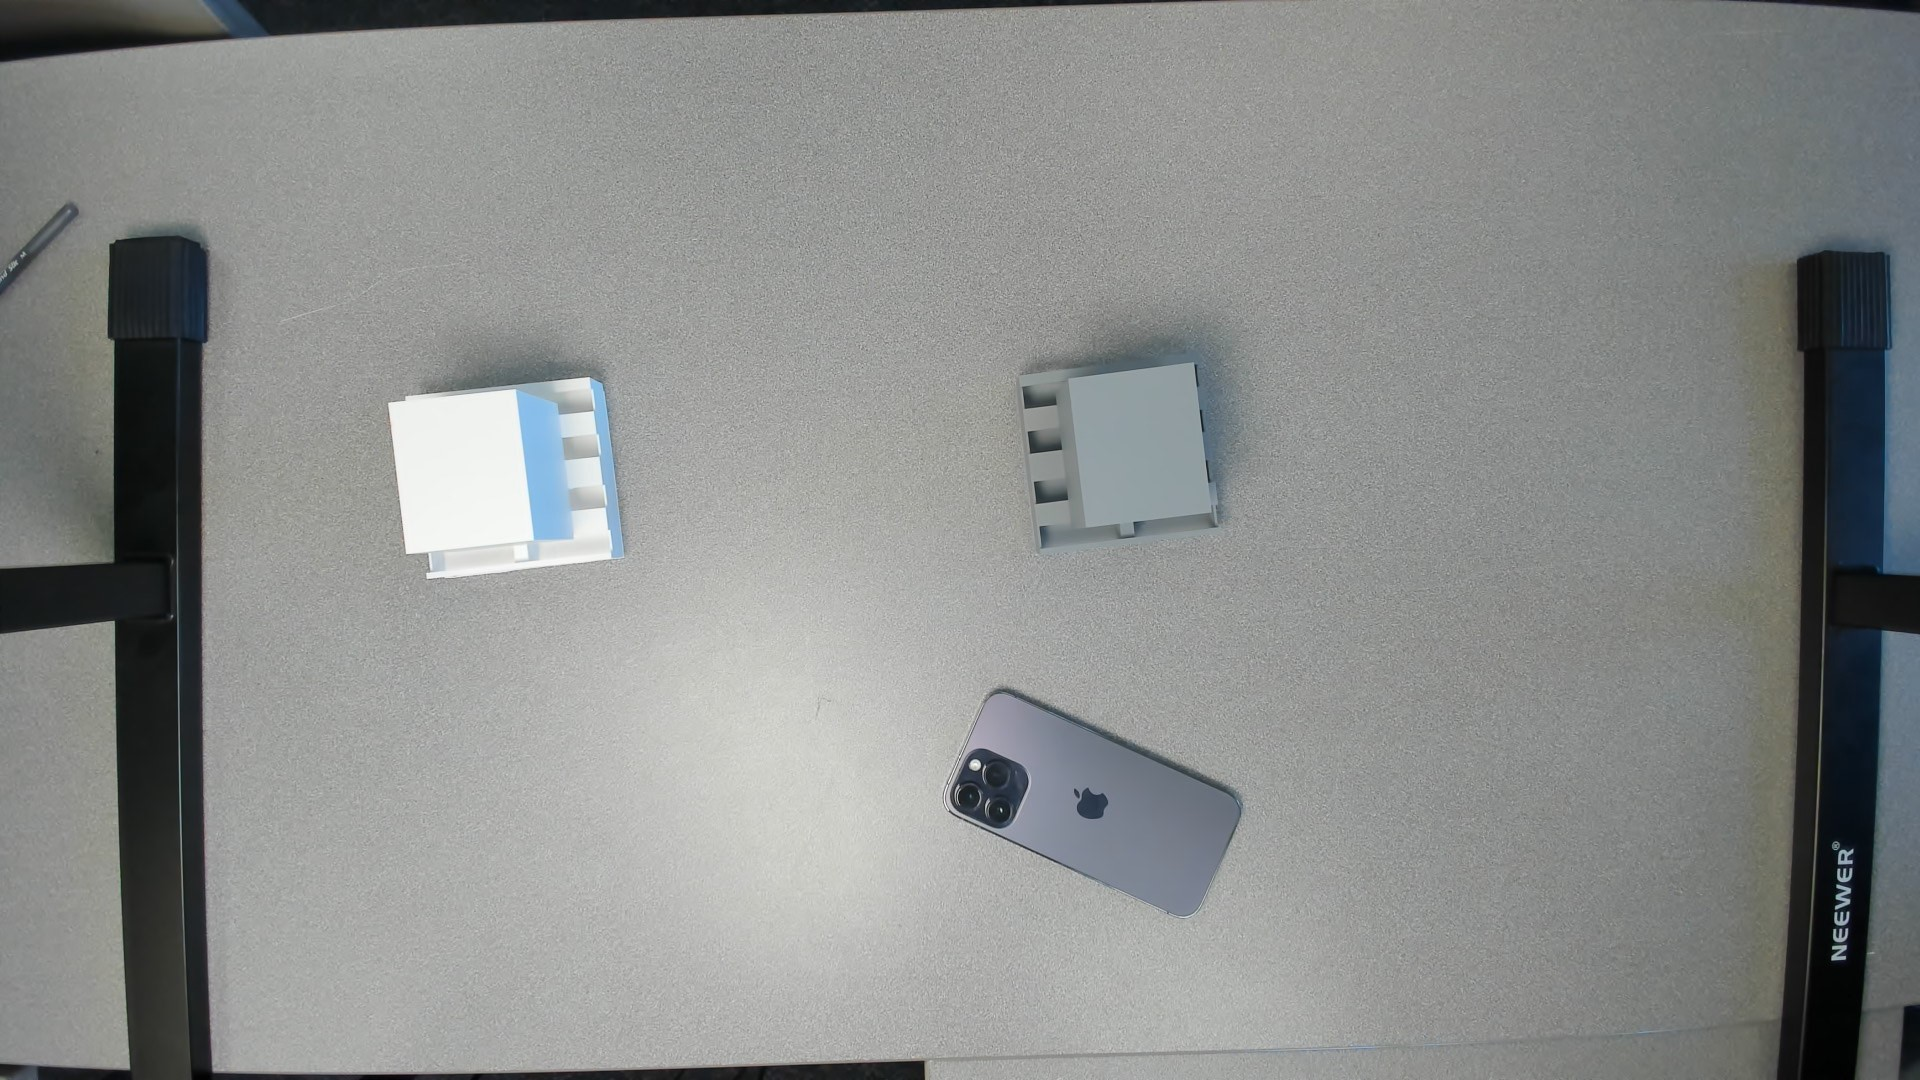grey pallet: (1006, 345, 1237, 567)
white pallet: (371, 371, 644, 603)
